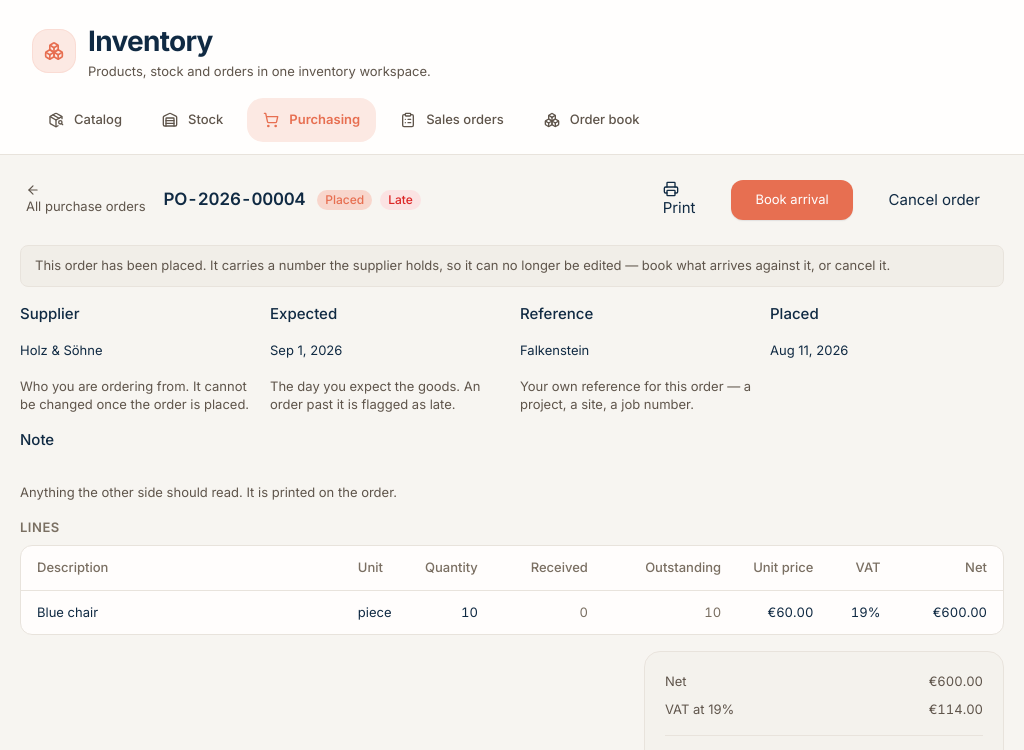
Scenario: booking an arrival › opens on what is outstanding and books what was typed over it
This screenshot has width=1024, height=750.
Expected: the heading "PO-2026-00004" is shown, [164,187,305,212]
Click the button "Book arrival": point(792, 200) [732,180,853,220]
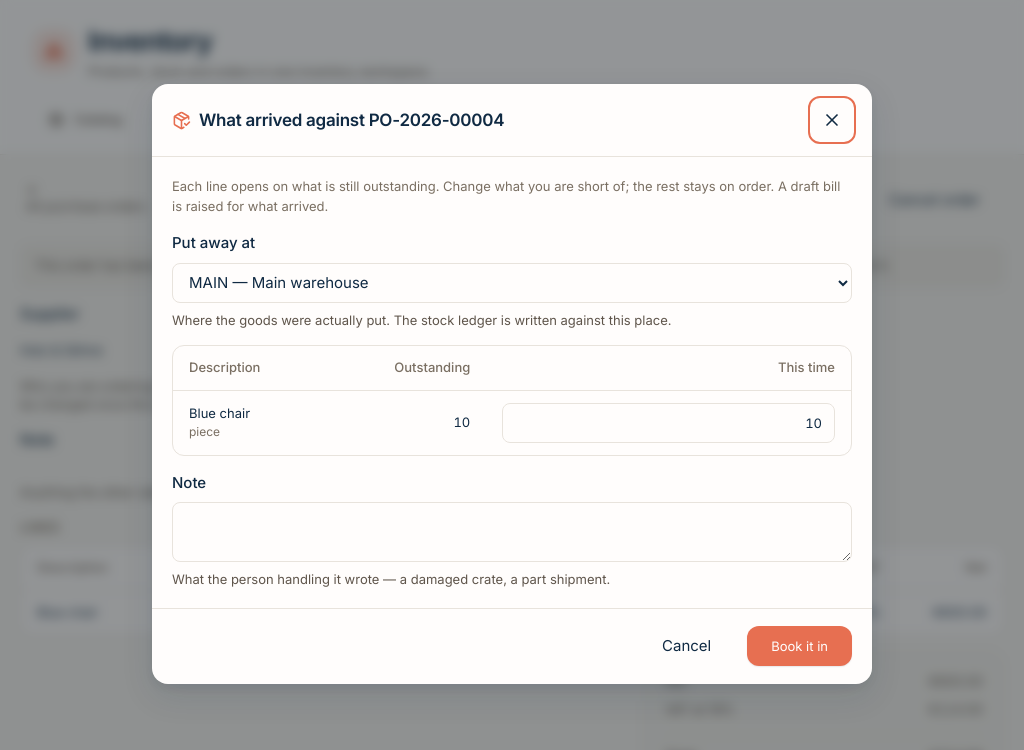
Replace the text in the field named "This time — Blue chair" with "4": point(669, 422) [502,402,835,442]
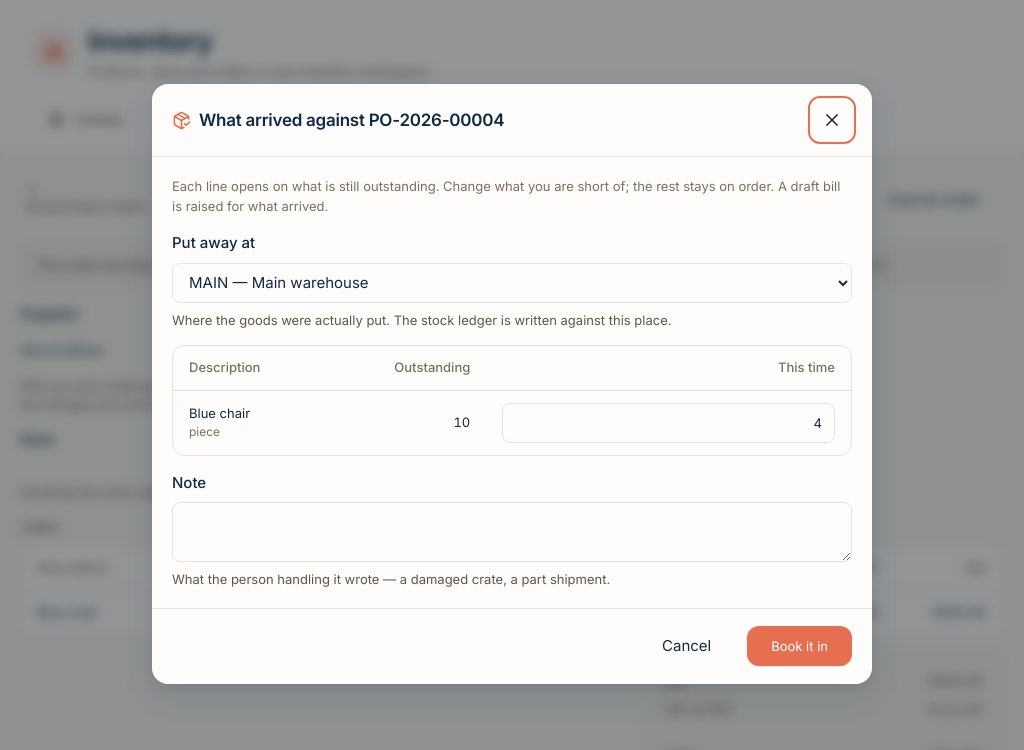
Click the button "Book it in": point(800, 646) [747,626,852,666]
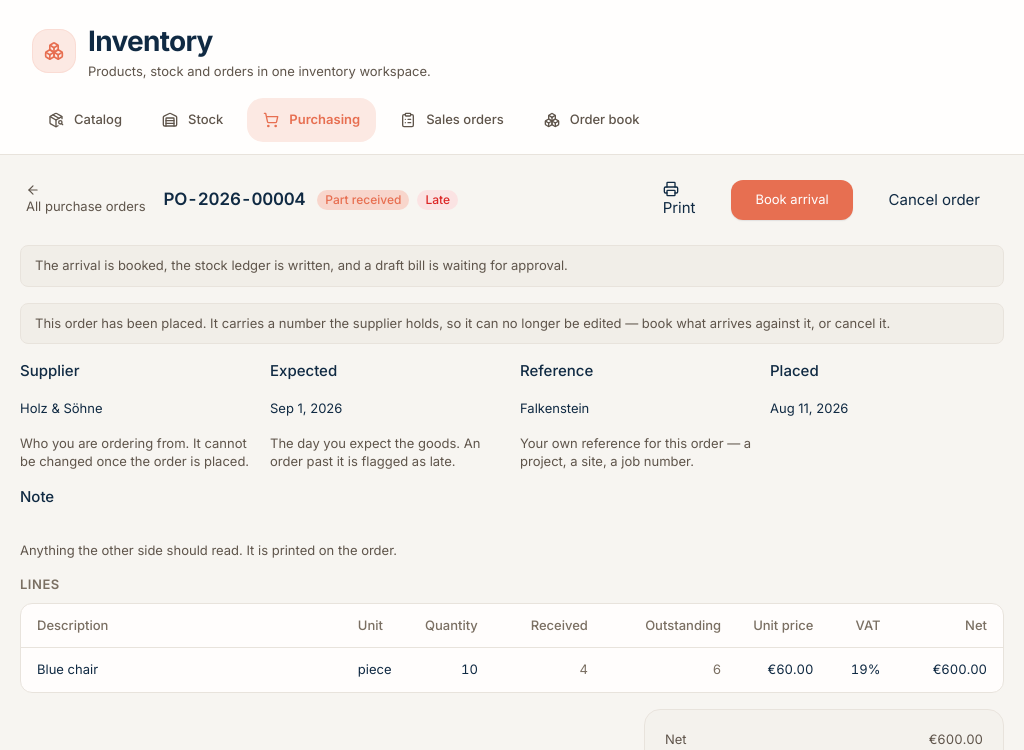
Expected: the text "6" is shown, [604,648,737,692]
